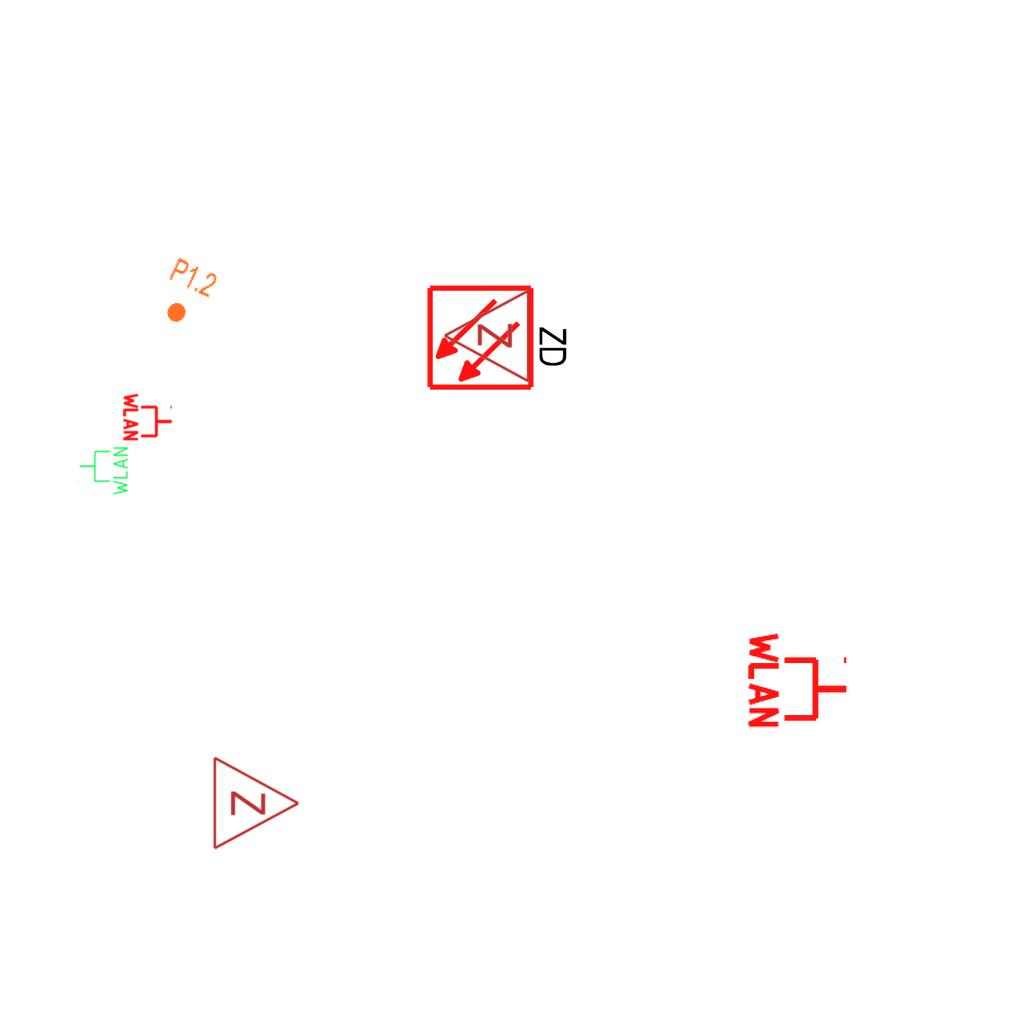Downlight_LED_Einbauleuchten_Flur: (151, 255, 221, 333)
WLAN: (746, 628, 851, 732), (78, 445, 130, 497), (122, 391, 174, 443)
ZD_Melder_in_Zwischendecke_mit_Revisionsoeffnung_mind_40_x_40_cm: (425, 279, 574, 393)
Zimmersignalleuchte: (206, 753, 306, 851), (437, 288, 537, 386)
